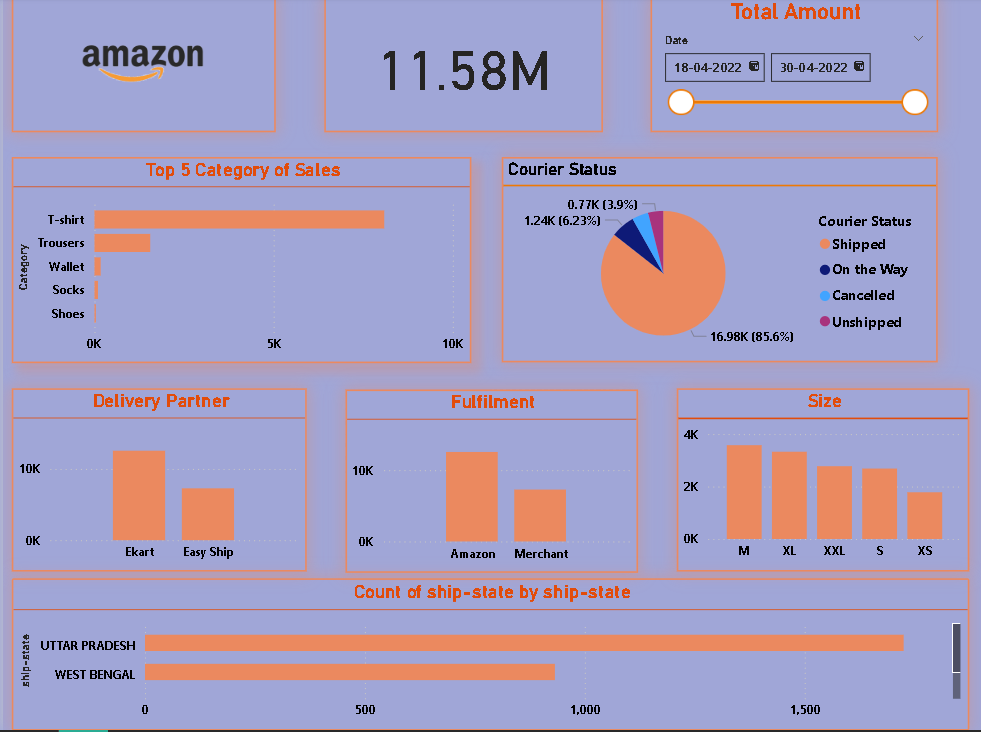

Layout of this report page (visuals, bound fields, positions):
{"tool":"powerbi","page":{"name":"Page 1","canvas":[960,720],"ordinal":0},"visuals":[{"type":"image","box":[8.6,0,258.9,132.5],"z":0},{"type":"card","title":"Total Amount","fields":{"Values":["Sum(Amazon Sale Report.Amount)"]},"box":[315.3,0,273.6,132.5],"z":1000},{"type":"slicer","title":"Total Amount","fields":{"Values":["Amazon Sale Report.Date"]},"box":[635.6,0,282.2,132.5],"z":2000},{"type":"barChart","title":"Top 5 Category of Sales","fields":{"Category":["Amazon Sale Report.Category"],"Y":["CountNonNull(Amazon Sale Report.Category)"]},"box":[8.6,157.1,451.5,202.5],"z":3000},{"type":"pieChart","title":"Courier Status ","fields":{"Category":["Amazon Sale Report.Courier Status"],"Y":["CountNonNull(Amazon Sale Report.Courier Status)"]},"box":[489.6,157.1,428.2,201.2],"z":4000},{"type":"columnChart","title":"Delivery Partner","fields":{"Category":["Amazon Sale Report.fulfilled-by"],"Y":["CountNonNull(Amazon Sale Report.fulfilled-by)"]},"box":[8.6,384.1,289.6,180.4],"z":5000},{"type":"columnChart","title":"Fulfilment","fields":{"Category":["Amazon Sale Report.Fulfilment"],"Y":["CountNonNull(Amazon Sale Report.Fulfilment)"]},"box":[336.2,385.3,287.1,180.4],"z":6000},{"type":"columnChart","title":"Size","fields":{"Category":["Amazon Sale Report.Size"],"Y":["CountNonNull(Amazon Sale Report.Size)"]},"box":[661.4,384.1,287.1,180.4],"z":7000},{"type":"clusteredBarChart","fields":{"Category":["Amazon Sale Report.ship-state"],"Y":["CountNonNull(Amazon Sale Report.ship-state)"]},"box":[8.6,570.6,939.9,149.7],"z":8000}]}

Visuals, with their boxes in screenshot pixels (x1, y1, x2, y2), scaled from the page's 960x720 canvas onto the 981x732 screenshot:
image: 9, 0, 273, 135
"Total Amount" card: 322, 0, 602, 135
"Total Amount" slicer: 650, 0, 938, 135
"Top 5 Category of Sales" barChart: 9, 160, 470, 366
"Courier Status " pieChart: 500, 160, 938, 364
"Delivery Partner" columnChart: 9, 391, 305, 574
"Fulfilment" columnChart: 344, 392, 637, 575
"Size" columnChart: 676, 391, 969, 574
clusteredBarChart - Amazon Sale Report.ship-state x CountNonNull(Amazon Sale Report.ship-state): 9, 580, 969, 731
